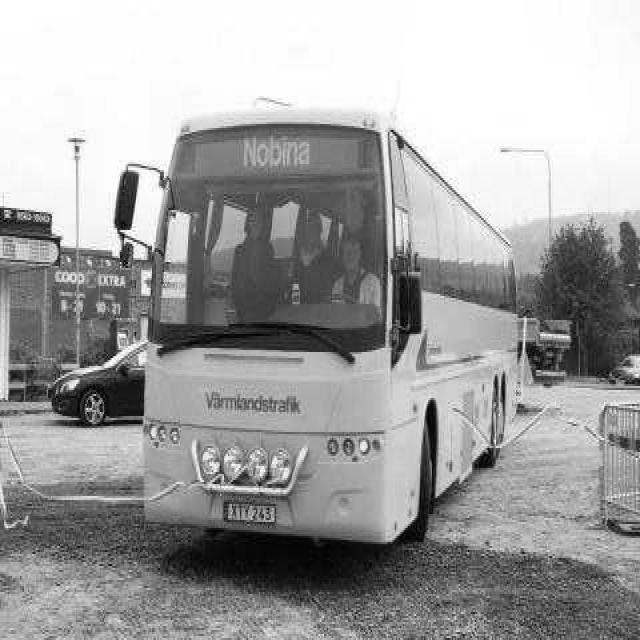Bus: (144, 109, 517, 543)
Car: (50, 341, 144, 425)
